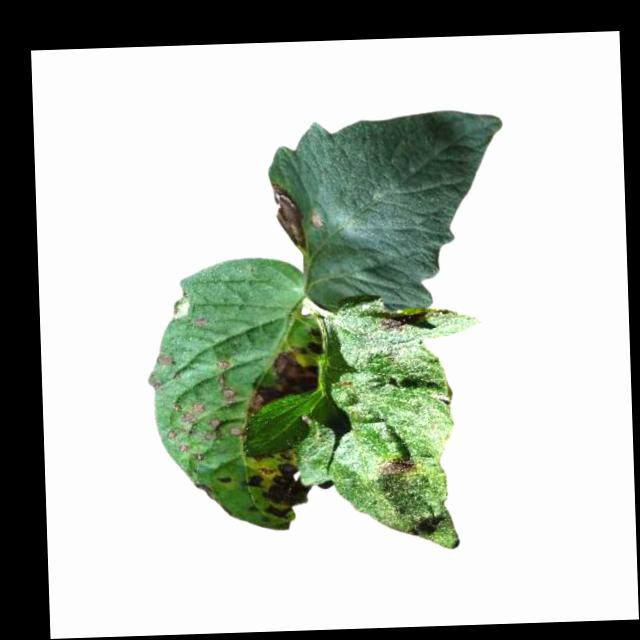Early_blight: (244, 337, 326, 415), (250, 460, 315, 519), (269, 182, 310, 250), (216, 357, 238, 412), (375, 456, 418, 478), (178, 399, 204, 424), (200, 418, 222, 442), (378, 313, 402, 329), (214, 470, 233, 485), (225, 425, 244, 438)
